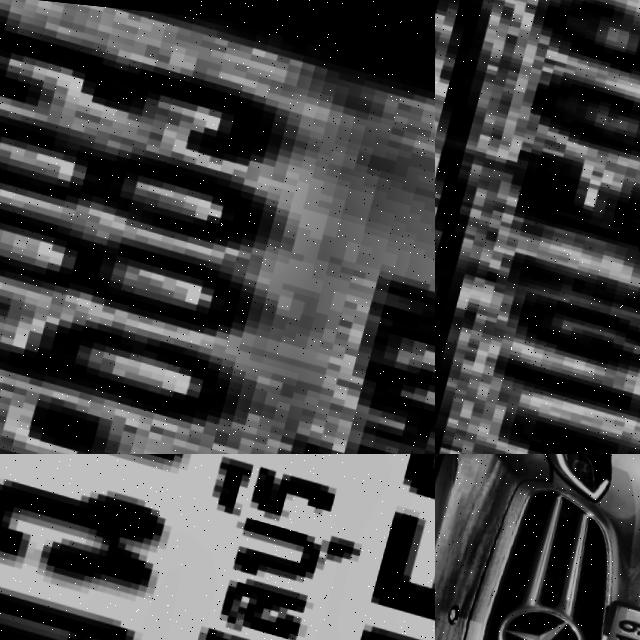license-plate: (0, 0, 435, 454), (435, 0, 640, 454), (0, 454, 435, 640)
